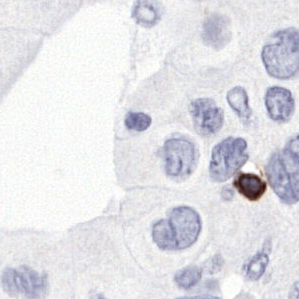Lymphocyte: (234, 172, 268, 201)
